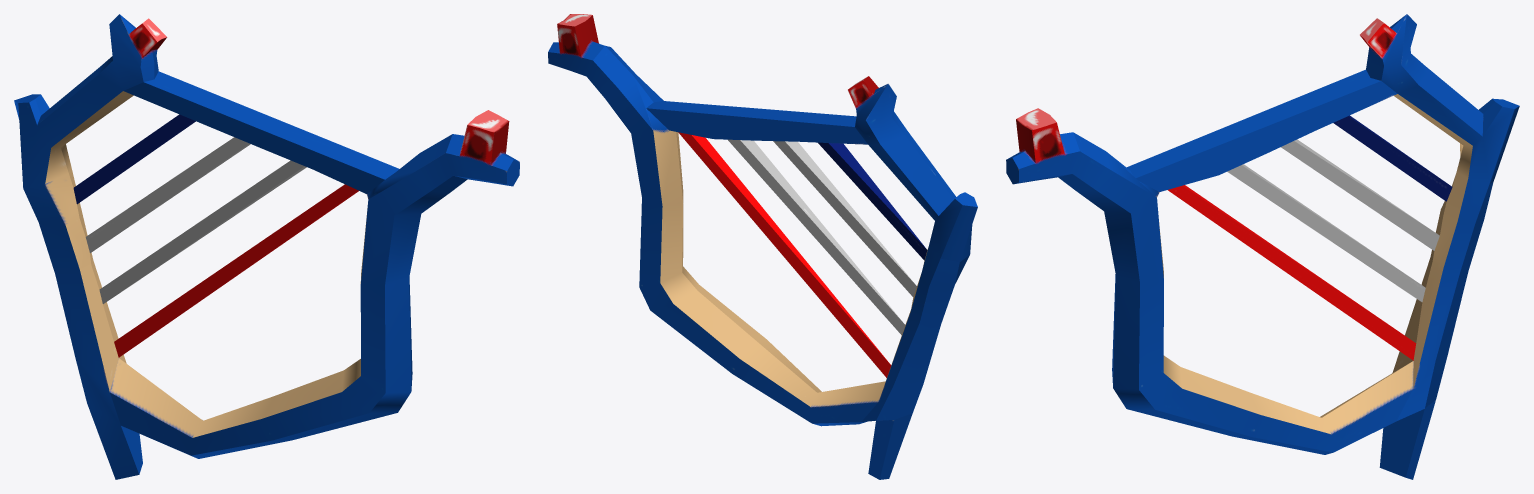
File: Arpa2_000020.obj
3 renders of one model, left to right at view 1: azimuth 30°, elevation 25°; view 2: azimuth 210°, elevation 25°; view 3: azimuth 270°, elevation 25°, orthographic. The views are drawn at different scales.
Parts seen in each view (by area): view 1: a2_Arpa_1:pCube7; view 2: a2_Arpa_1:pCube7; view 3: a2_Arpa_1:pCube7.
Part boxes in pixels (box(x1,y1,x2,y2)): a2_Arpa_1:pCube7: box(14, 14, 519, 479); a2_Arpa_1:pCube7: box(548, 14, 977, 479); a2_Arpa_1:pCube7: box(1006, 14, 1519, 479).
Size of the model in its own units: 4.04 by 6.78 by 6.83.
